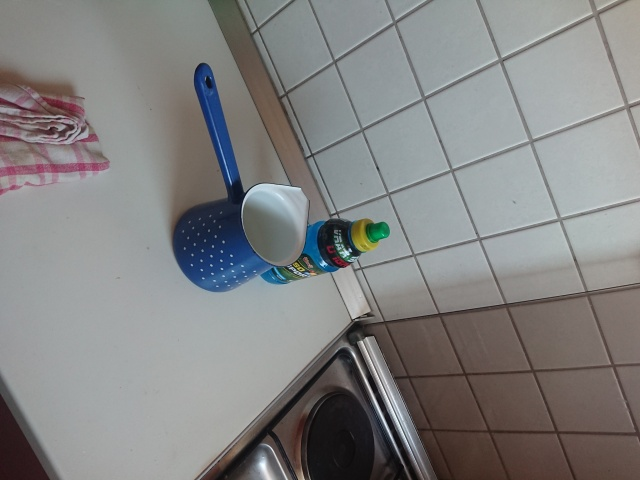Vindi Iso Sport Forest Strawberries 500mL: (256, 216, 391, 286)
